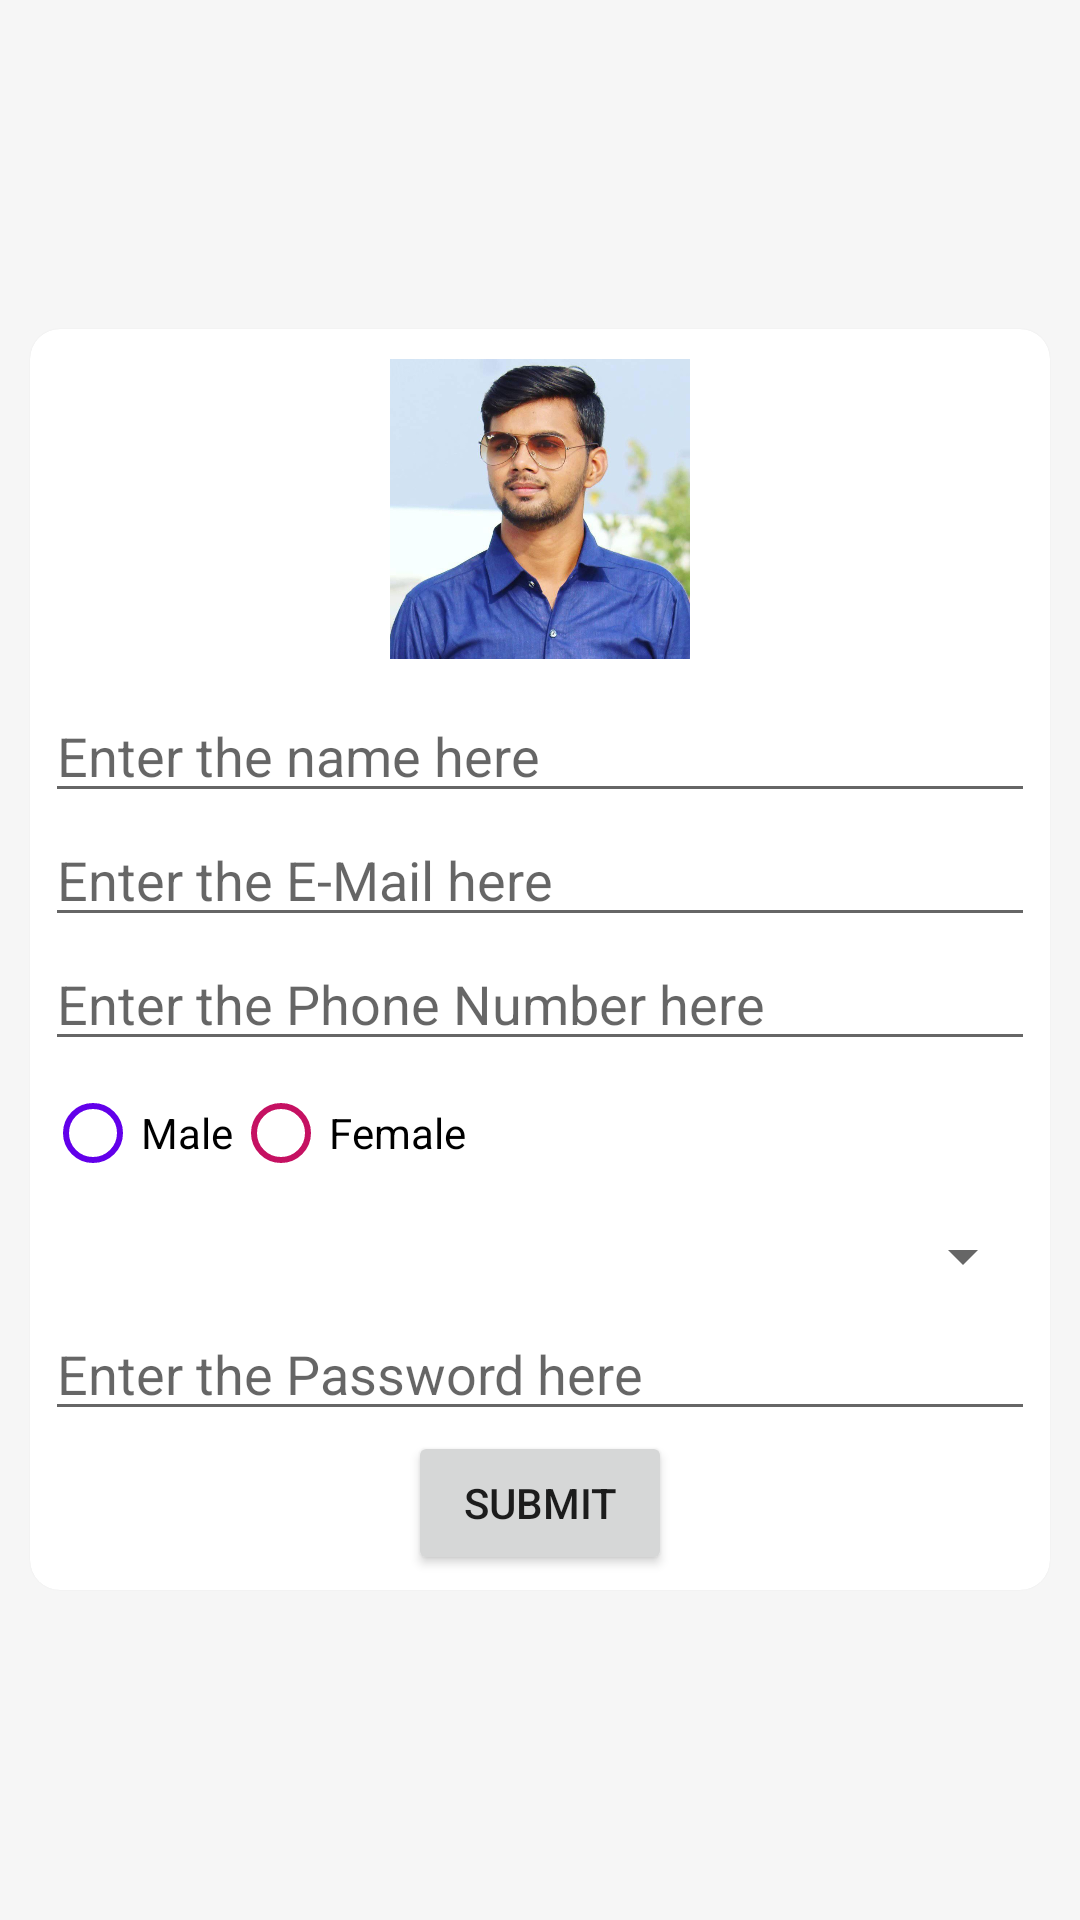

Icons on this 1080px x 1920px Android screen, each with its box as bbox=(x1, y1, x2, y2):
profile: bbox=(390, 359, 690, 659)
